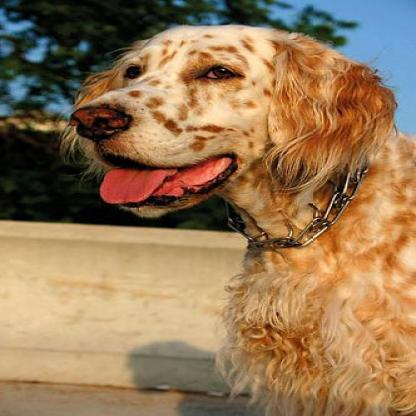English_setter: (59, 18, 411, 413)
